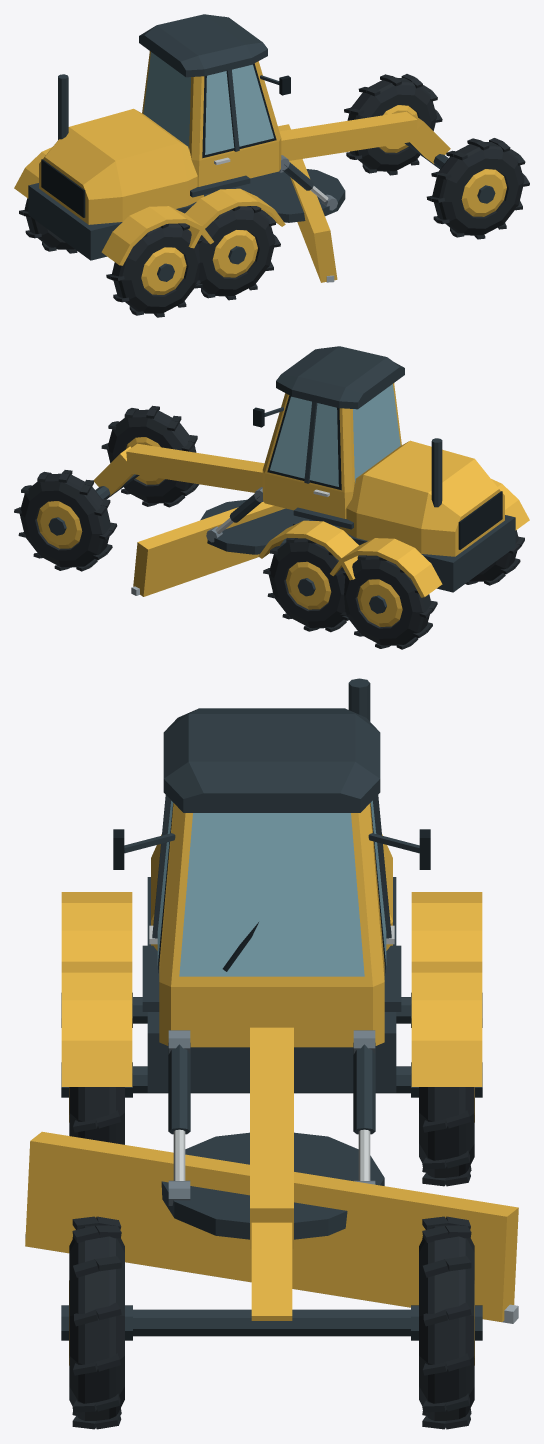
Rendered from b07_motor_grader.glb.
3 renders of one model, top to bottom at view 1: azimuth 30°, elevation 25°; view 2: azimuth 150°, elevation 25°; view 3: azimuth 270°, elevation 25°, orthographic. The views are drawn at different scales.
Parts seen in each view (by area): view 1: b07_motor_grader; view 2: b07_motor_grader; view 3: b07_motor_grader.
Part boxes in pixels (<box>): b07_motor_grader: <box>14,14,529,317</box>; b07_motor_grader: <box>14,346,529,649</box>; b07_motor_grader: <box>25,678,518,1429</box>.
Bounding box in the file's own units: 5.8 × 2.97 × 2.94.
